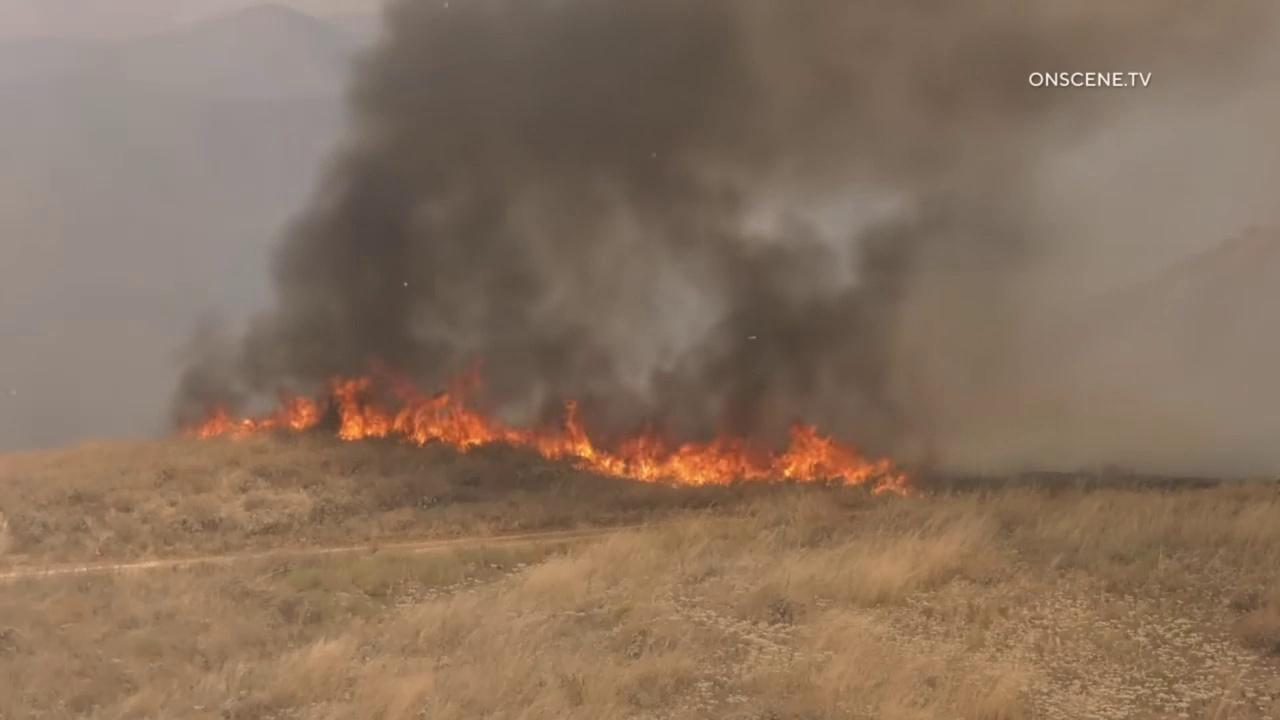fire: (181, 354, 912, 499)
smoke: (0, 0, 1280, 479)
